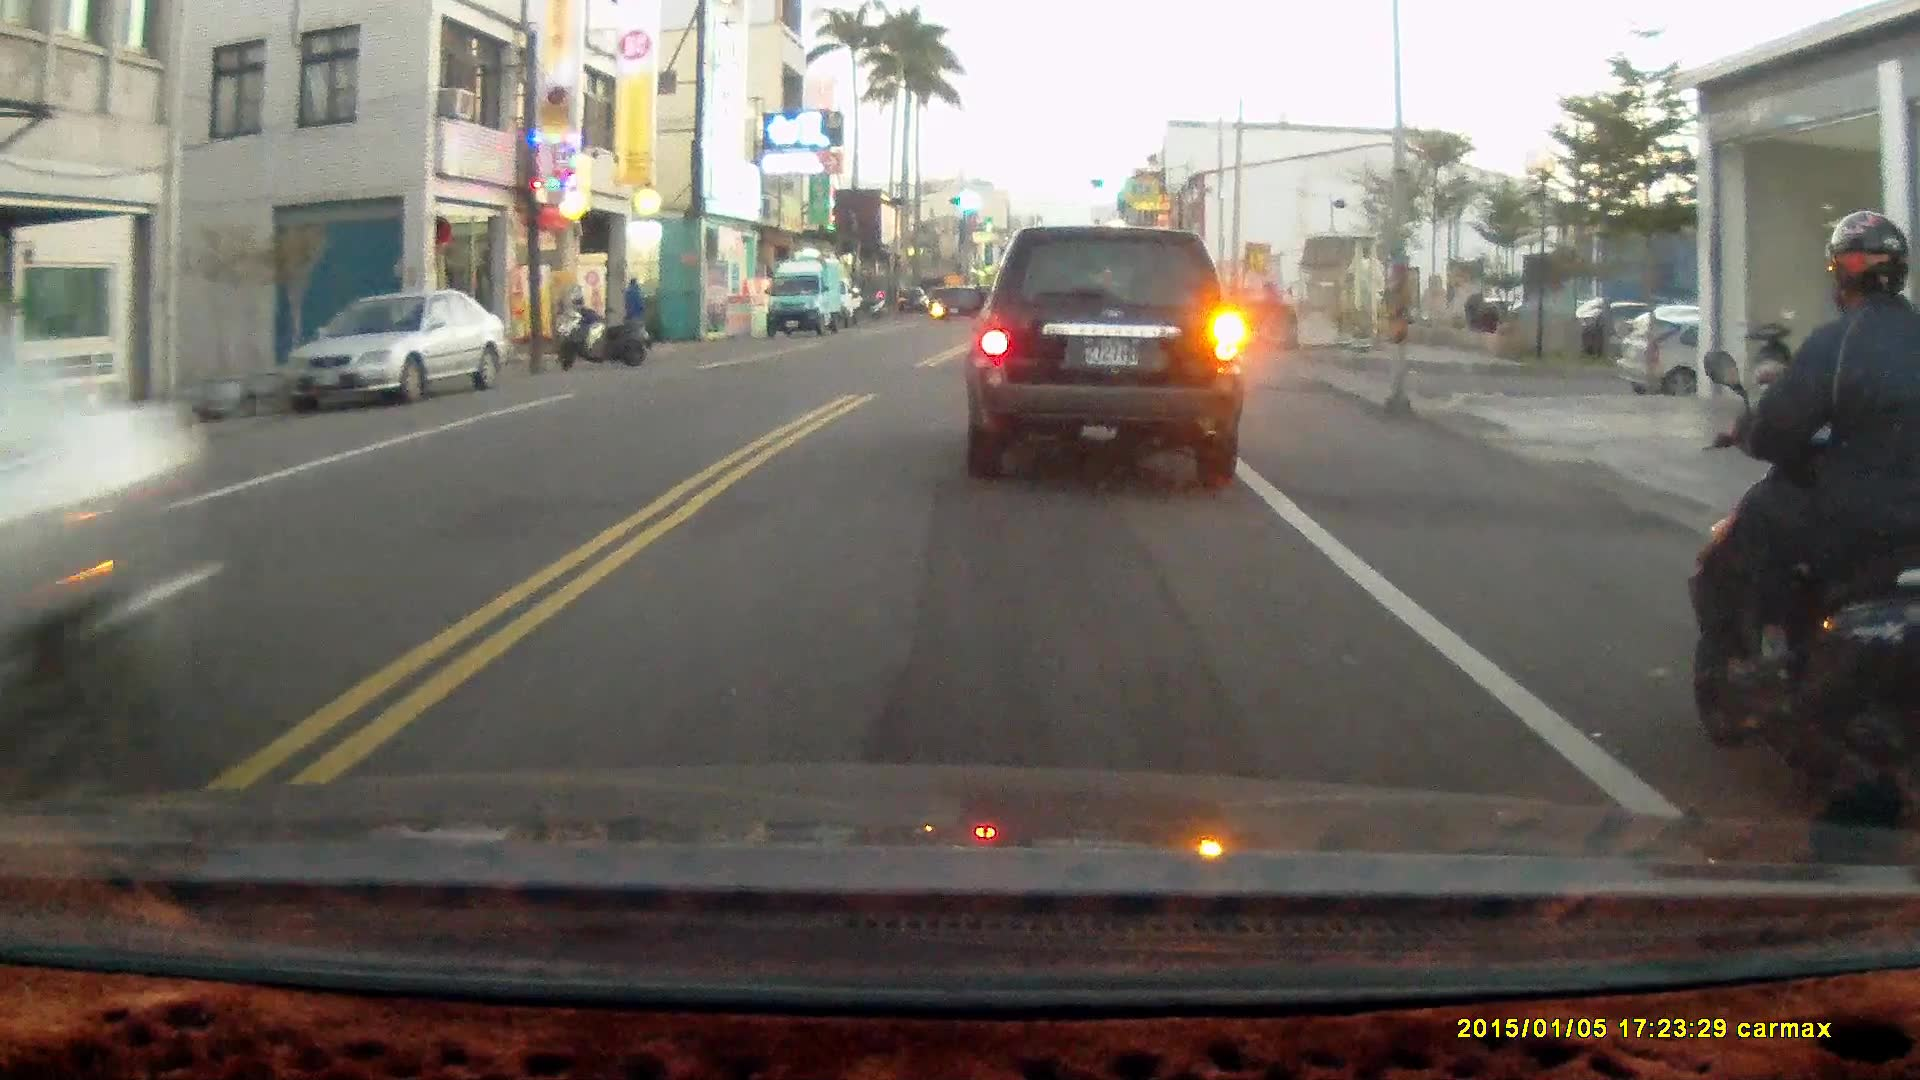pedestrian: (620, 273, 650, 356)
rider: (1677, 206, 1920, 850)
vehicle: (1, 341, 235, 805), (973, 223, 1249, 492), (278, 288, 509, 407), (1621, 317, 1842, 401), (765, 258, 850, 342)
